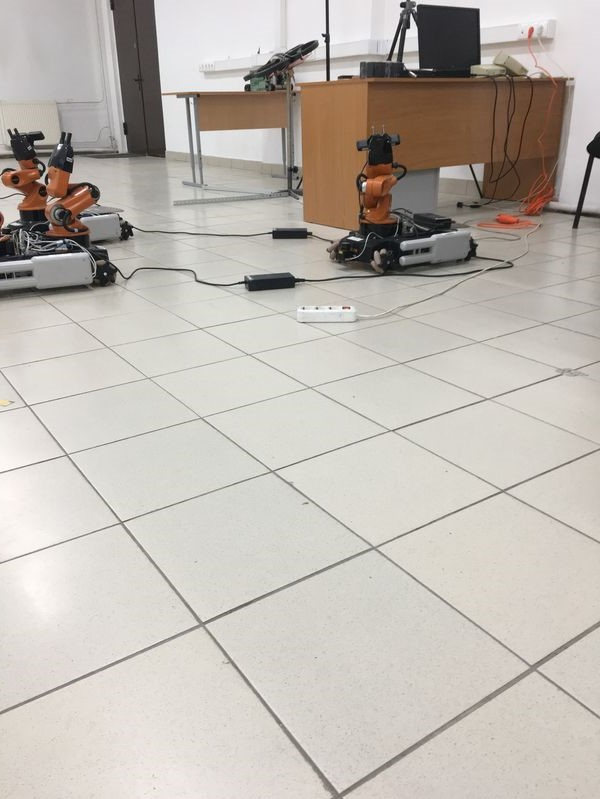socket: (292, 300, 365, 327)
